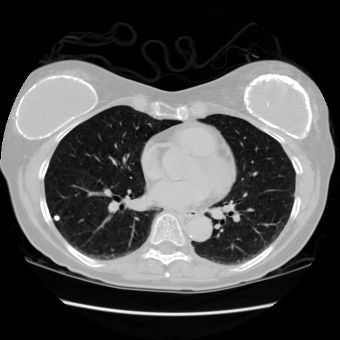nodule: (52, 214, 60, 222)
